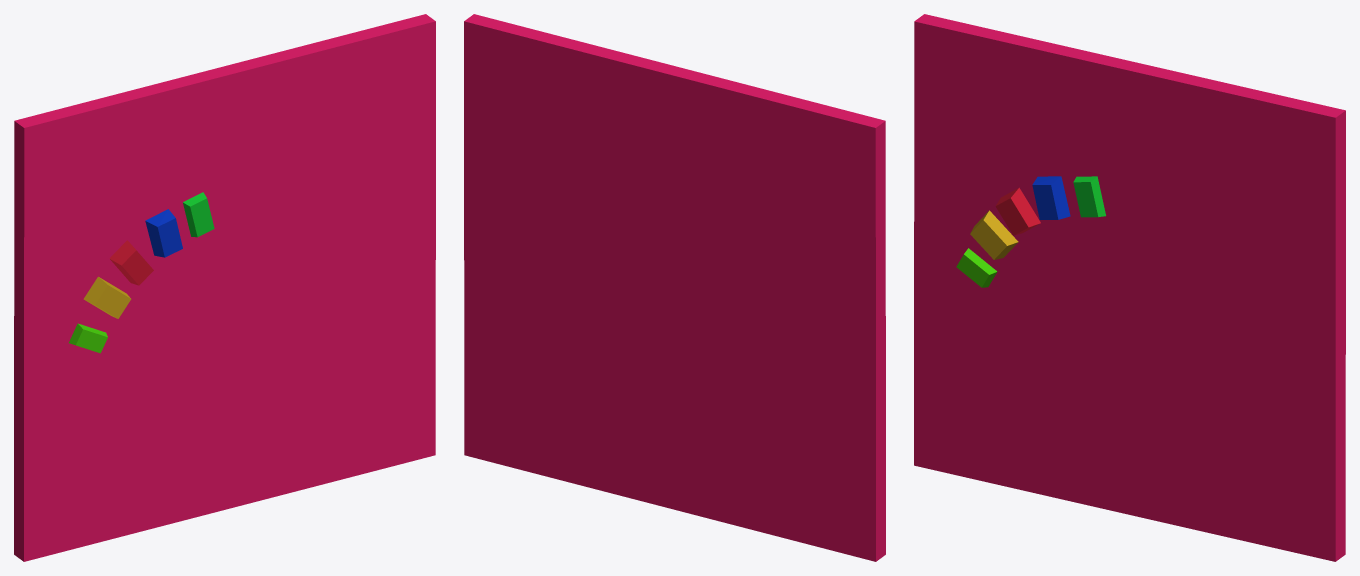
File: convex_phantom_collision.OBJ
3 renders of one model, left to right at view 1: azimuth 30°, elevation 25°; view 2: azimuth 150°, elevation 25°; view 3: azimuth 330°, elevation 25°, orthographic. The views are drawn at different scales.
Parts seen in each view (by area): view 1: convex_phantom_collision_Plane.017; view 2: convex_phantom_collision_Plane.017; view 3: convex_phantom_collision_Plane.017.
Part boxes in pixels (x1,y1,x2,y2): convex_phantom_collision_Plane.017: [14, 14, 435, 561]; convex_phantom_collision_Plane.017: [464, 14, 885, 561]; convex_phantom_collision_Plane.017: [914, 14, 1345, 561].
Size of the model in its own units: 1.27 by 1.29 by 0.1013.
